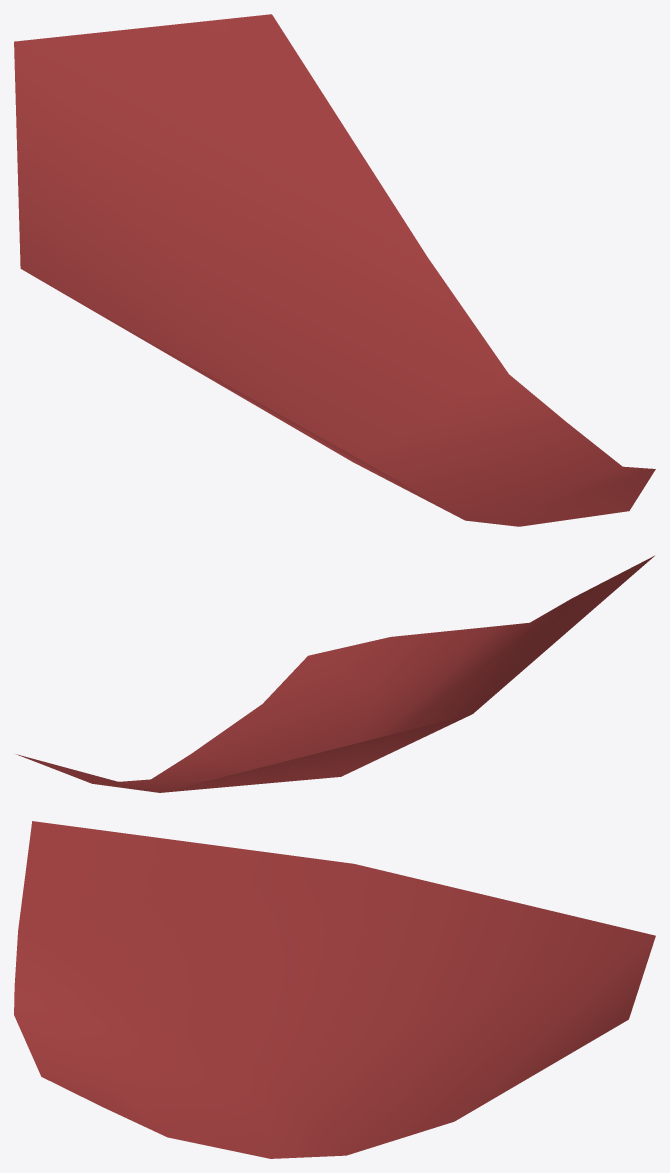
File: lateral-head-of-flexor-hallucis-brevis-er.glb
The picture shows the model from 3 angles, top to bottom: view 1: azimuth 30°, elevation 25°; view 2: azimuth 150°, elevation 25°; view 3: azimuth 270°, elevation 25°; orthographic projection. The views are drawn at different scales.
Parts seen in each view (by area): view 1: Lateral head of flexor hallucis brevis.er; view 2: Lateral head of flexor hallucis brevis.er; view 3: Lateral head of flexor hallucis brevis.er.
Part boxes in pixels (x1,y1,x2,y2): Lateral head of flexor hallucis brevis.er: (14,14,655,526); Lateral head of flexor hallucis brevis.er: (16,555,654,792); Lateral head of flexor hallucis brevis.er: (14,821,655,1158).
Size of the model in its own units: 0.00435 by 0.00231 by 0.00745.
